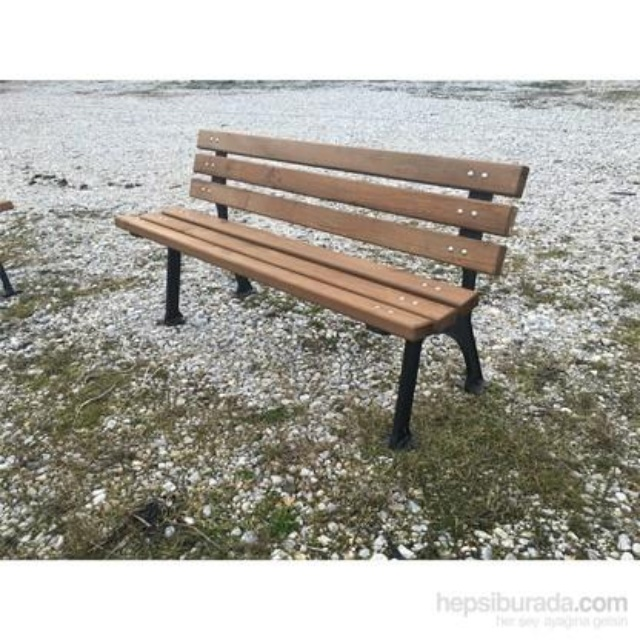obstacle: (115, 137, 549, 446)
